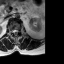CCS_normal: (14, 27, 16, 37)
LFS_stenosis: (18, 28, 20, 34)
LLS_normal: (16, 27, 18, 36)
RFS_normal: (10, 28, 12, 35)
RLS_normal: (12, 28, 14, 35)
